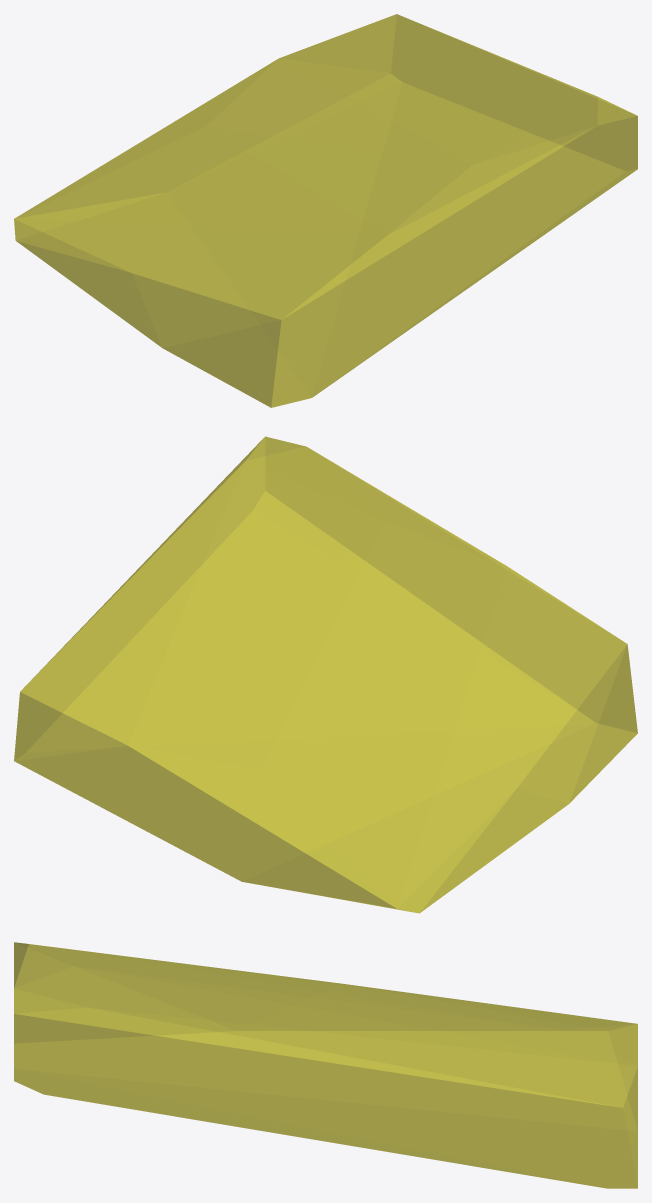
The picture shows the model from 3 angles, top to bottom: view 1: azimuth 30°, elevation 25°; view 2: azimuth 150°, elevation 25°; view 3: azimuth 270°, elevation 25°; orthographic projection. The views are drawn at different scales.
Visible parts, largest first — view 1: Shape_IndexedFaceSet.027_Shape_IndexedFaceSet.625; view 2: Shape_IndexedFaceSet.027_Shape_IndexedFaceSet.625; view 3: Shape_IndexedFaceSet.027_Shape_IndexedFaceSet.625.
Part boxes in pixels (x1=…): Shape_IndexedFaceSet.027_Shape_IndexedFaceSet.625: x1=14, y1=14, x2=637, y2=407; Shape_IndexedFaceSet.027_Shape_IndexedFaceSet.625: x1=14, y1=436, x2=637, y2=913; Shape_IndexedFaceSet.027_Shape_IndexedFaceSet.625: x1=14, y1=942, x2=637, y2=1188.
Size of the model in its own units: 0.0708 by 0.0354 by 0.0782.
